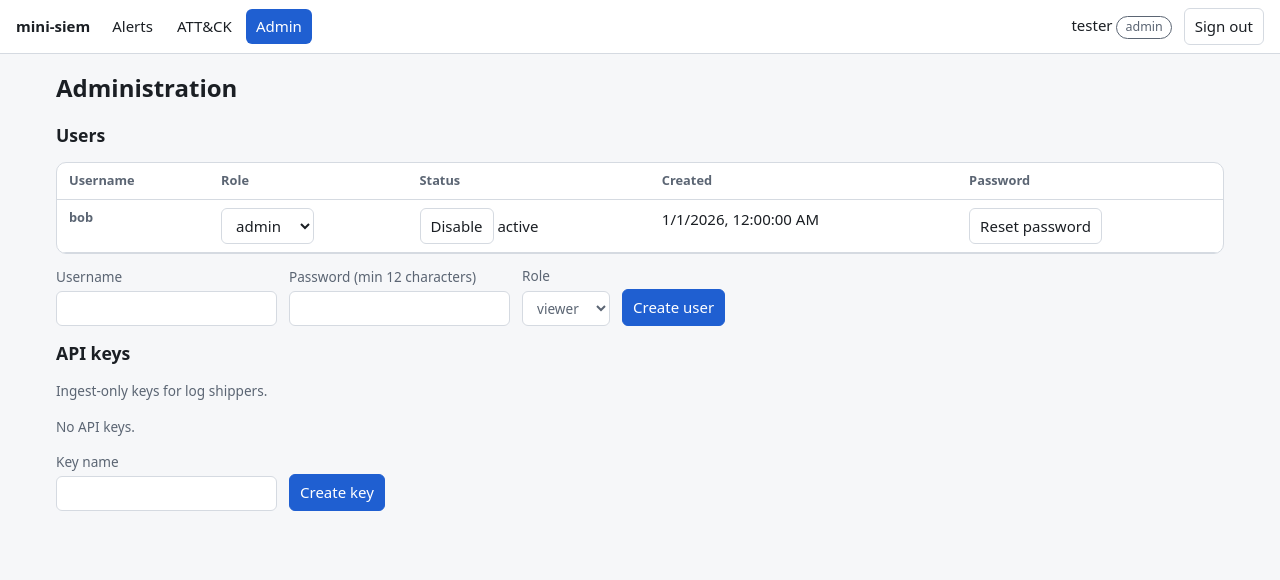
Test: admin page › shows the last-admin 409 message
Select "viewer" in the dropdown named "Role for bob": (268, 226) [221,208,314,244]
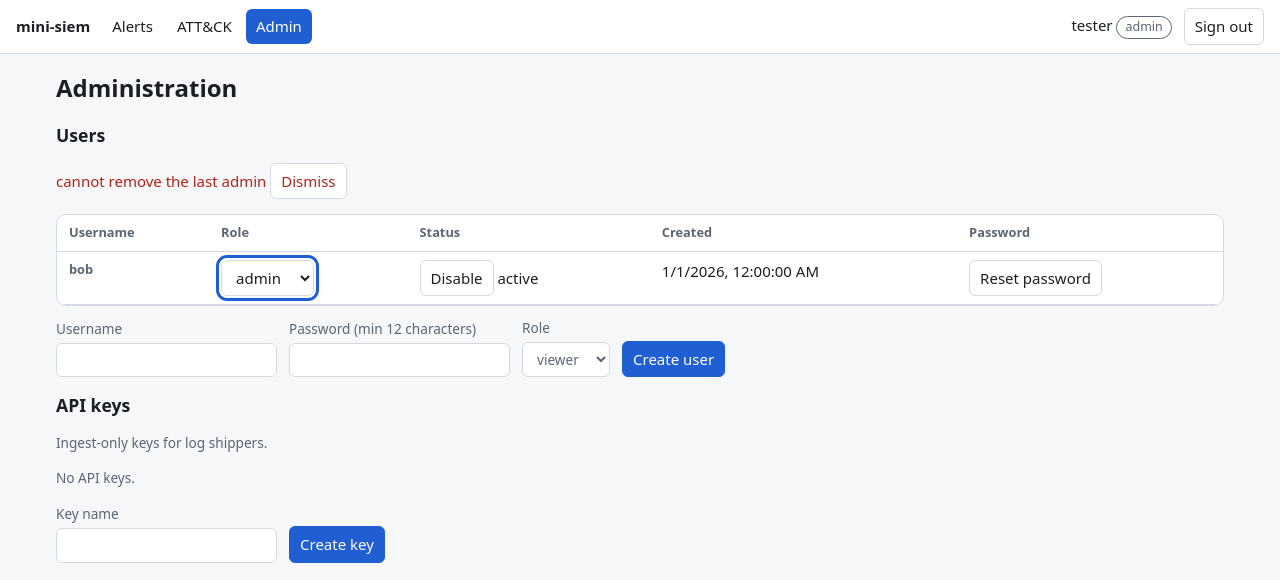
Result: the text "cannot remove the last admin" is shown at [56,171,266,191]
